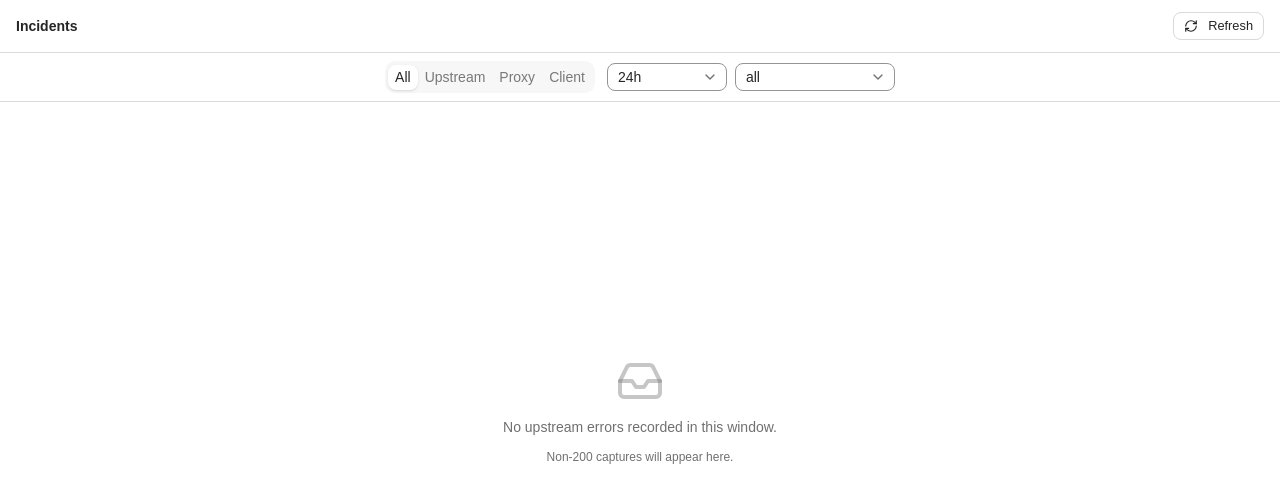
Test: IncidentsTab › shows Proxy-specific empty state when proxy sub-tab active
Click the tab "Proxy": (517, 77) [492,64,542,90]
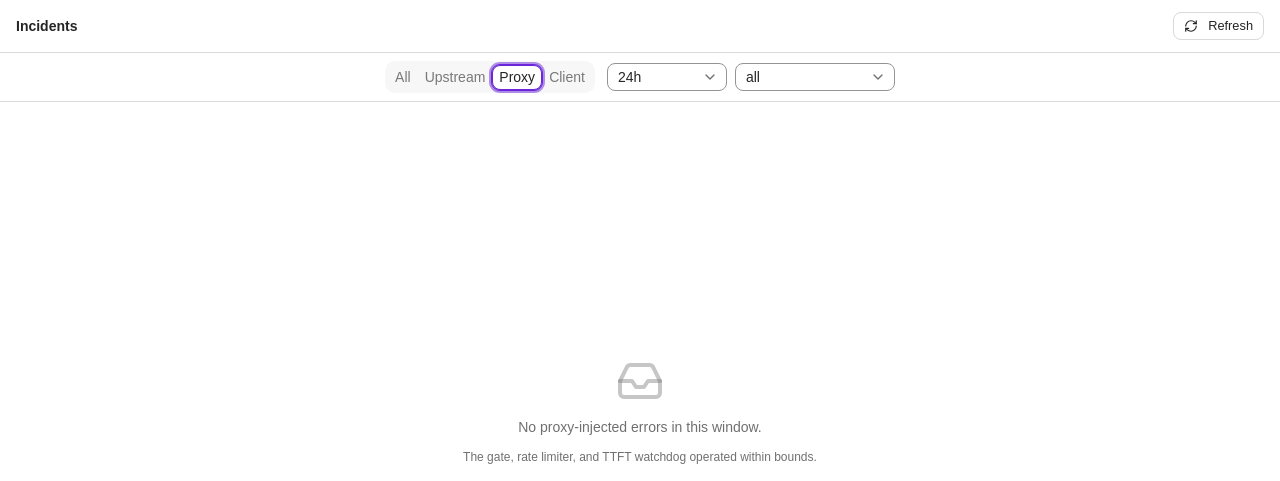
Check: the text "No proxy-injected errors in this window." is shown, box [518,417,762,437]
Check: the text "gate, rate limiter, and TTFT watchdog operated within bounds" is shown, box [463,450,817,464]
